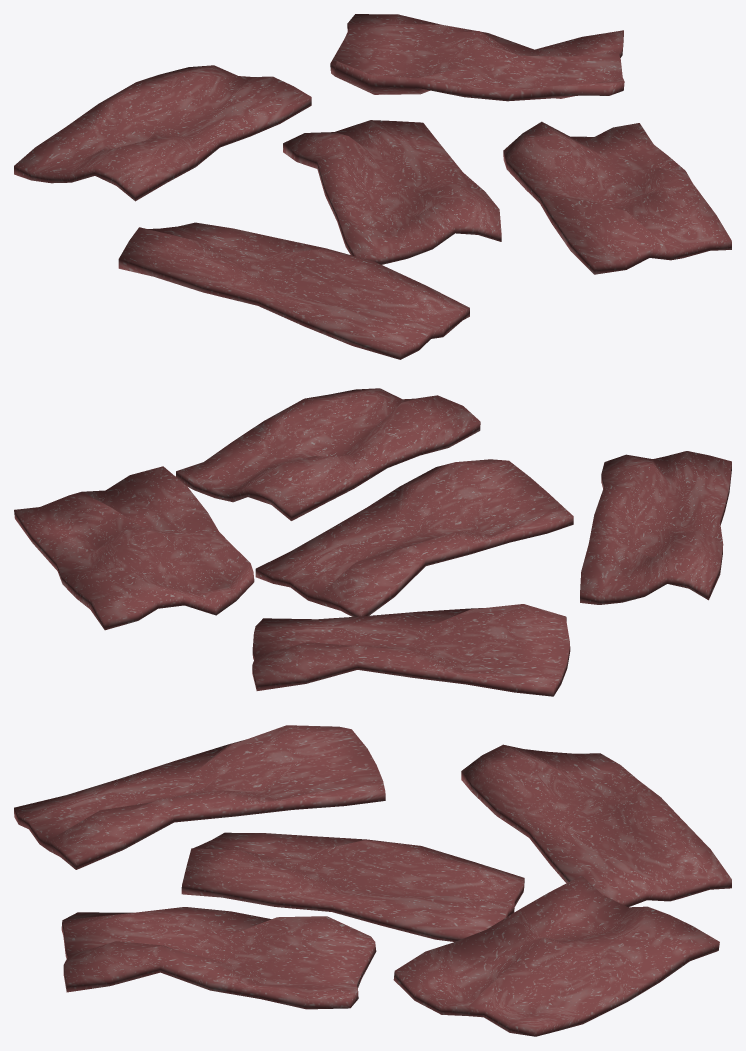
Rendered from yakiniku_01_t.glb.
3 renders of one model, top to bottom at view 1: azimuth 30°, elevation 25°; view 2: azimuth 150°, elevation 25°; view 3: azimuth 270°, elevation 25°, orthographic. The views are drawn at different scales.
Visible parts, largest first — view 1: yakiniku; view 2: yakiniku; view 3: yakiniku.
Boxes of the visible parts, x1,y1,x2,y2 form: yakiniku: [14, 14, 731, 359]; yakiniku: [14, 388, 731, 696]; yakiniku: [14, 725, 731, 1036].
Size of the model in its own units: 0.1823 by 0.0146 by 0.1811.
Materials: 1 (1 with a texture image).
